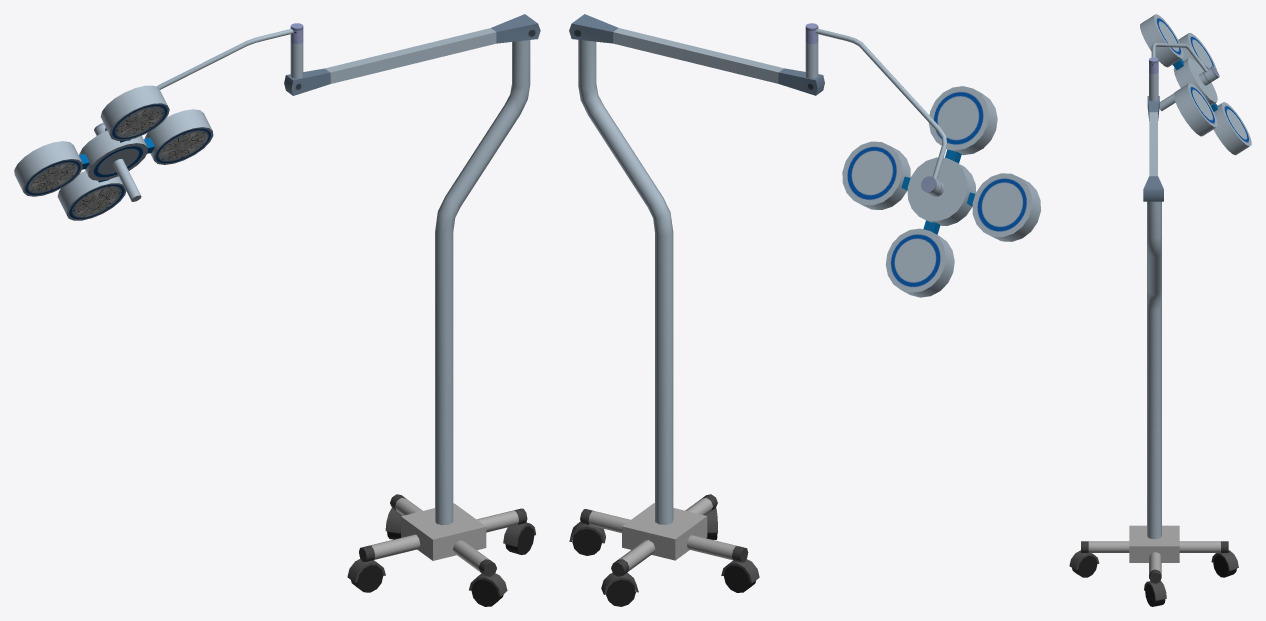
Rendered from operating light portable.FBX.
3 views of the same model, side by side, from view 1: azimuth 30°, elevation 25°; view 2: azimuth 150°, elevation 25°; view 3: azimuth 270°, elevation 25° (orthographic). The views are drawn at different scales.
Visible parts, largest first — view 1: operating light portable; view 2: operating light portable; view 3: operating light portable.
Boxes of the visible parts, x1,y1,x2,y2 form: operating light portable: [14, 14, 540, 606]; operating light portable: [569, 14, 1040, 606]; operating light portable: [1069, 14, 1251, 606].
Bounding box in the file's own units: 48.19 × 19.64 × 54.65.
